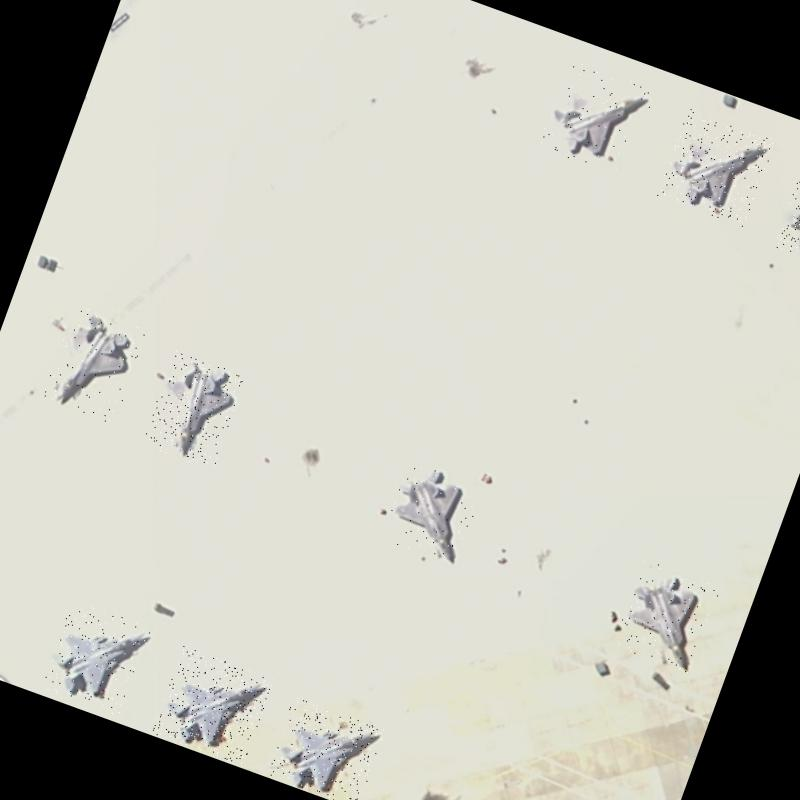A13: (151, 646, 274, 766), (40, 599, 151, 716), (264, 696, 385, 800)
A15: (536, 58, 657, 179), (656, 108, 776, 228), (40, 304, 148, 426), (378, 450, 488, 567), (140, 350, 247, 470), (612, 559, 720, 674), (773, 159, 800, 278)
